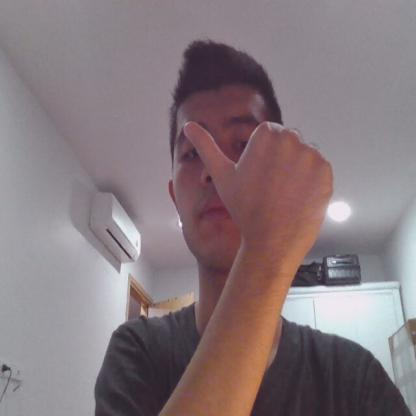right: (181, 103, 336, 260)
